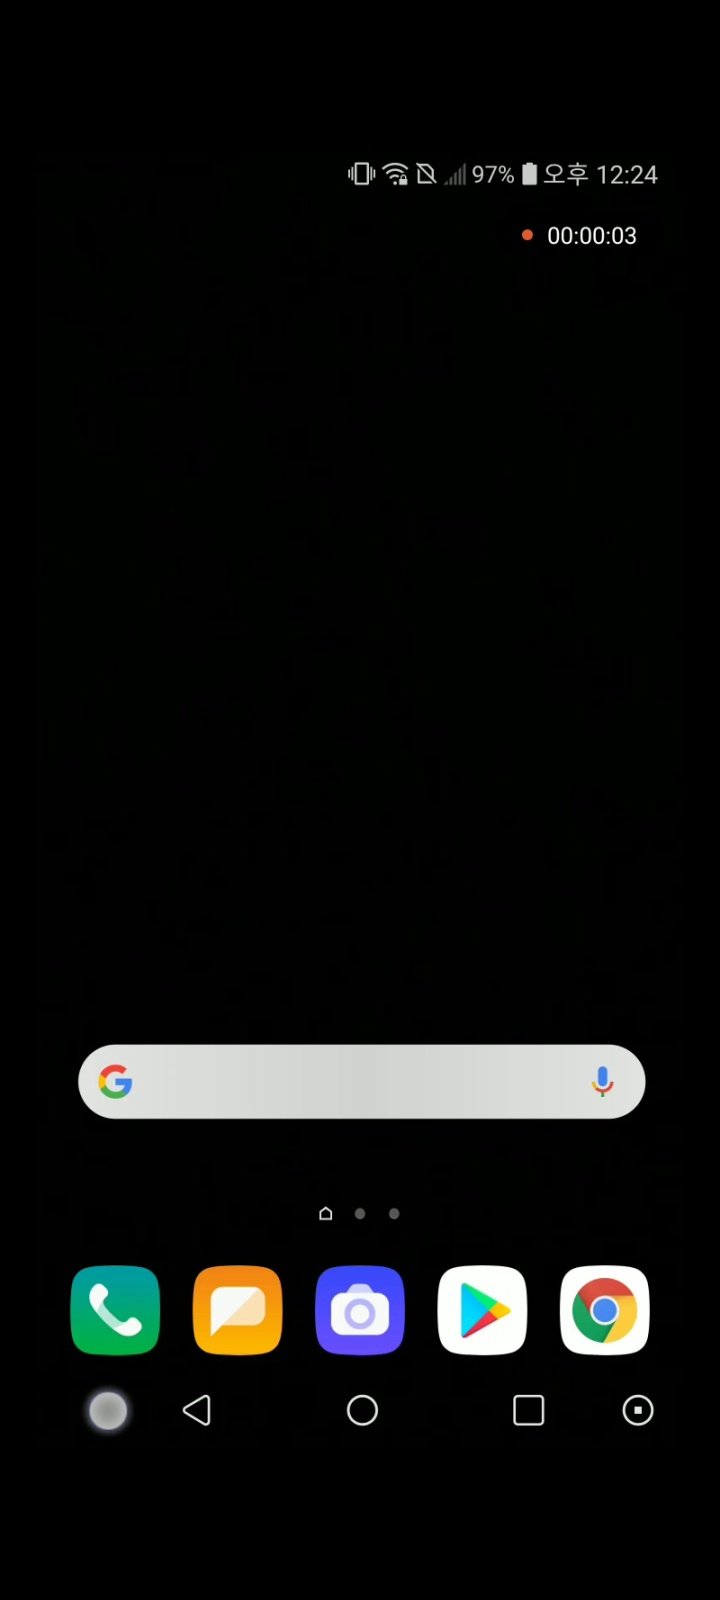Cursor: (86, 1389, 131, 1434)
